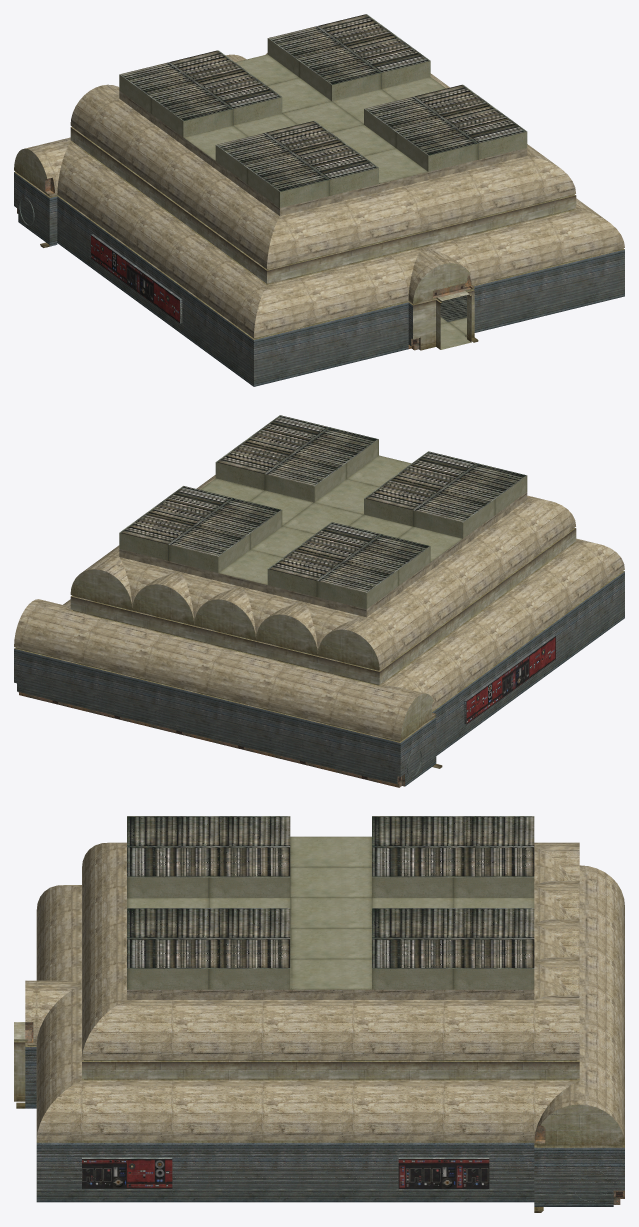
The model's file is poi_all_bunker_allum_mine_r64_lab64_mesh_r64.fbx.
3 views of the same model, one above another, from view 1: azimuth 30°, elevation 25°; view 2: azimuth 150°, elevation 25°; view 3: azimuth 270°, elevation 25° (orthographic). The views are drawn at different scales.
Parts seen in each view (by area): view 1: mesh_node; view 2: mesh_node; view 3: mesh_node.
Boxes of the visible parts, x1,y1,x2,y2 form: mesh_node: (14,14,624,386); mesh_node: (14,415,624,787); mesh_node: (14,816,624,1212).
Size of the model in its own units: 25.8 by 9.6 by 27.
